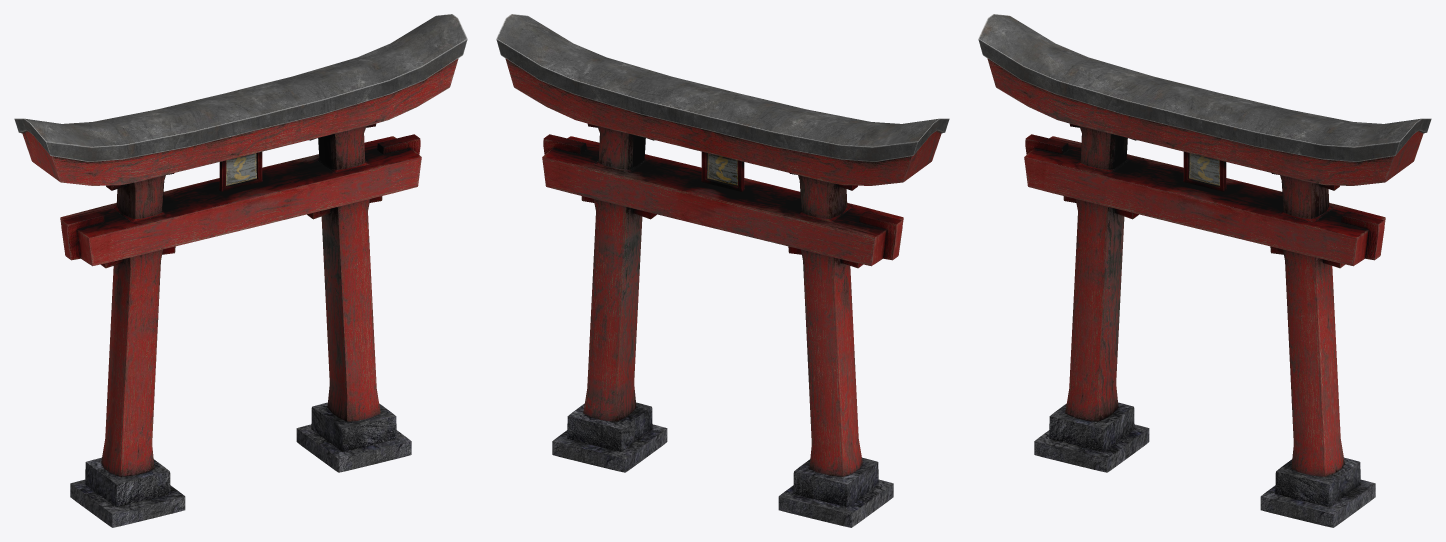
Rendered from torii (2).glb.
The picture shows the model from 3 angles, left to right: view 1: azimuth 30°, elevation 25°; view 2: azimuth 150°, elevation 25°; view 3: azimuth 330°, elevation 25°; orthographic projection.
Visible parts, largest first — view 1: tate1; view 2: tate1; view 3: tate1.
Part boxes in pixels (x1,y1,x2,y2): tate1: (14,14,467,527); tate1: (496,14,949,527); tate1: (978,14,1431,527).
Bounding box in the file's own units: 142 × 129 × 24.31.
Materials: 1 (1 with a texture image).
